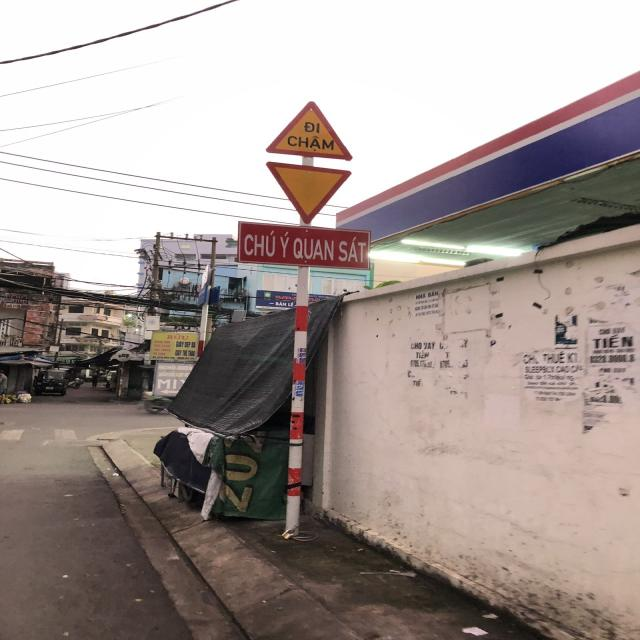Bien bao di cham: (256, 94, 366, 166)
Bien bao giao nhau voi duong uu tien: (254, 160, 361, 226)
